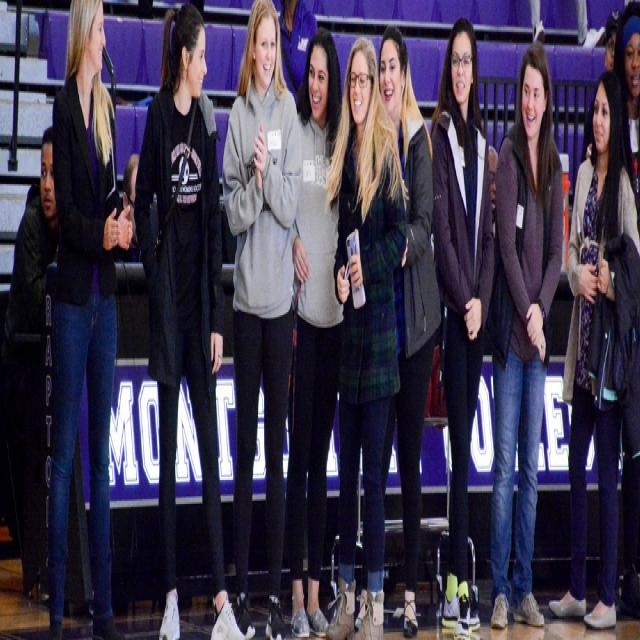body: (130, 0, 249, 638), (43, 0, 134, 638), (217, 0, 307, 638), (322, 27, 412, 638), (546, 64, 640, 638), (487, 30, 565, 636), (426, 9, 500, 638), (377, 22, 443, 638), (283, 21, 345, 638), (1, 123, 59, 605), (610, 0, 640, 627), (276, 0, 318, 98), (116, 149, 144, 237), (600, 6, 623, 94), (482, 123, 500, 232)
